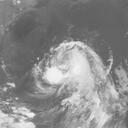cyclone: (33, 40, 99, 96)
